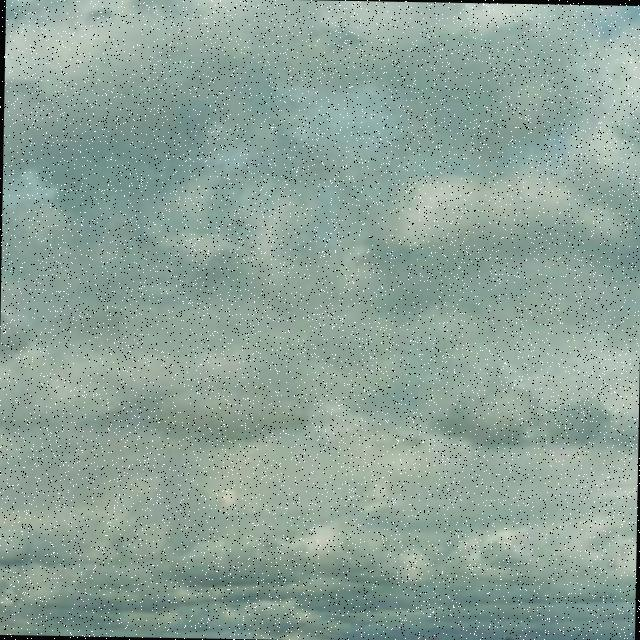Sc: (1, 14, 640, 495)
